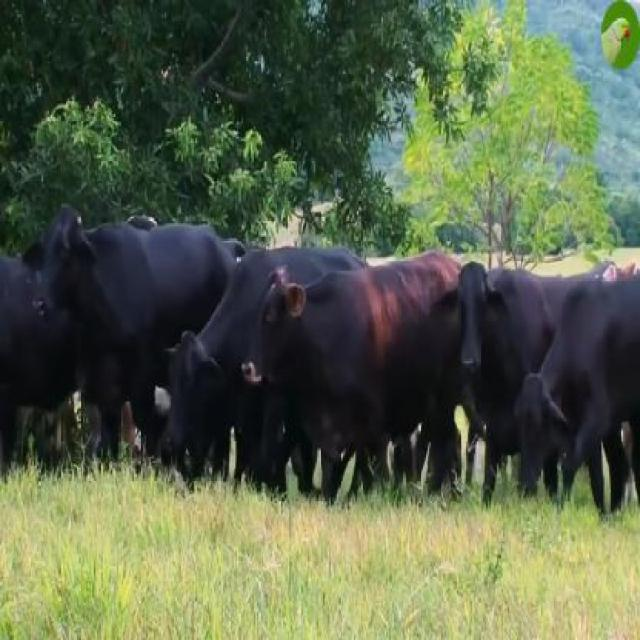Cow: (23, 205, 220, 472), (440, 260, 535, 445)
